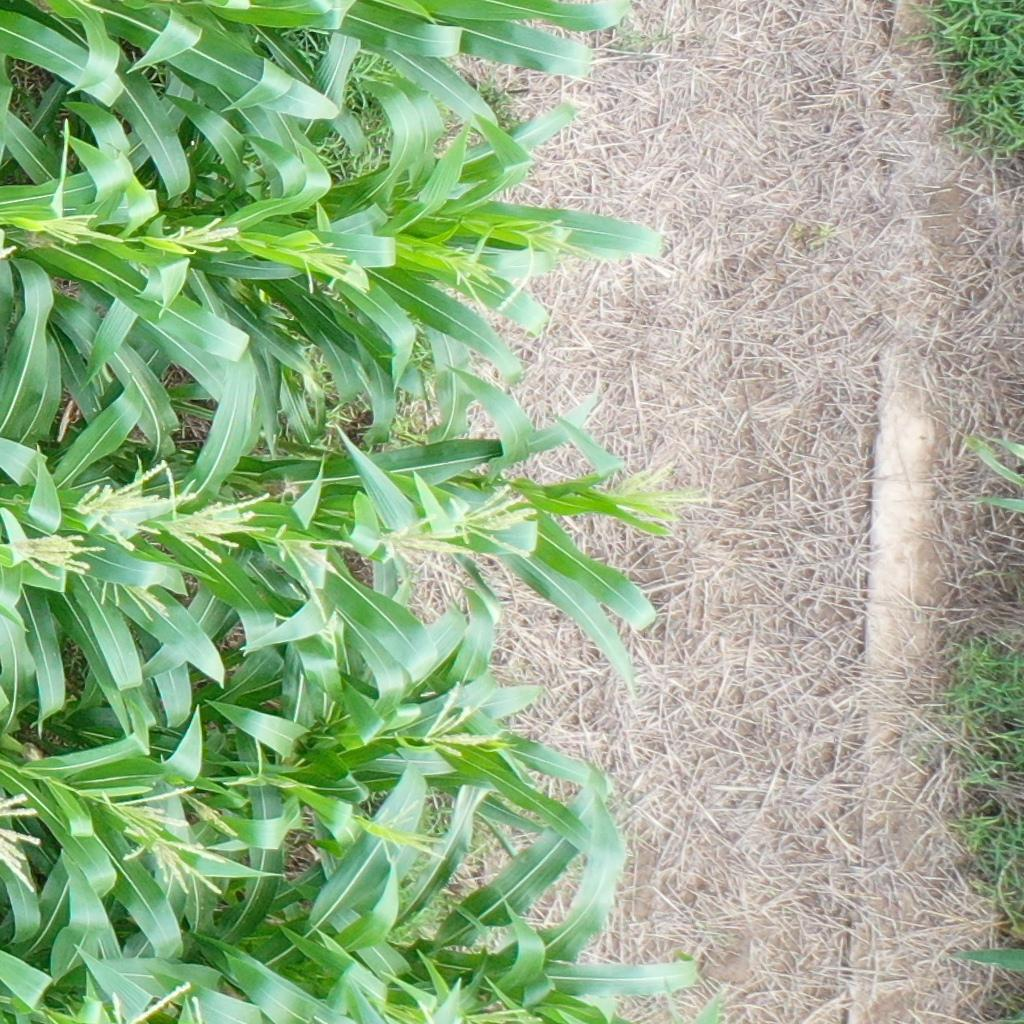Tassel: (266, 524, 345, 654), (163, 465, 266, 564), (501, 216, 607, 306), (74, 459, 163, 554), (409, 676, 509, 758), (594, 455, 714, 522), (376, 513, 477, 584), (121, 834, 229, 900), (352, 798, 449, 870), (447, 481, 540, 556), (434, 239, 506, 317), (8, 530, 108, 582), (295, 237, 374, 298), (103, 784, 193, 837), (1, 789, 41, 889), (33, 207, 126, 248), (96, 577, 169, 623), (167, 214, 240, 259), (192, 801, 238, 838), (459, 1007, 543, 1024)
